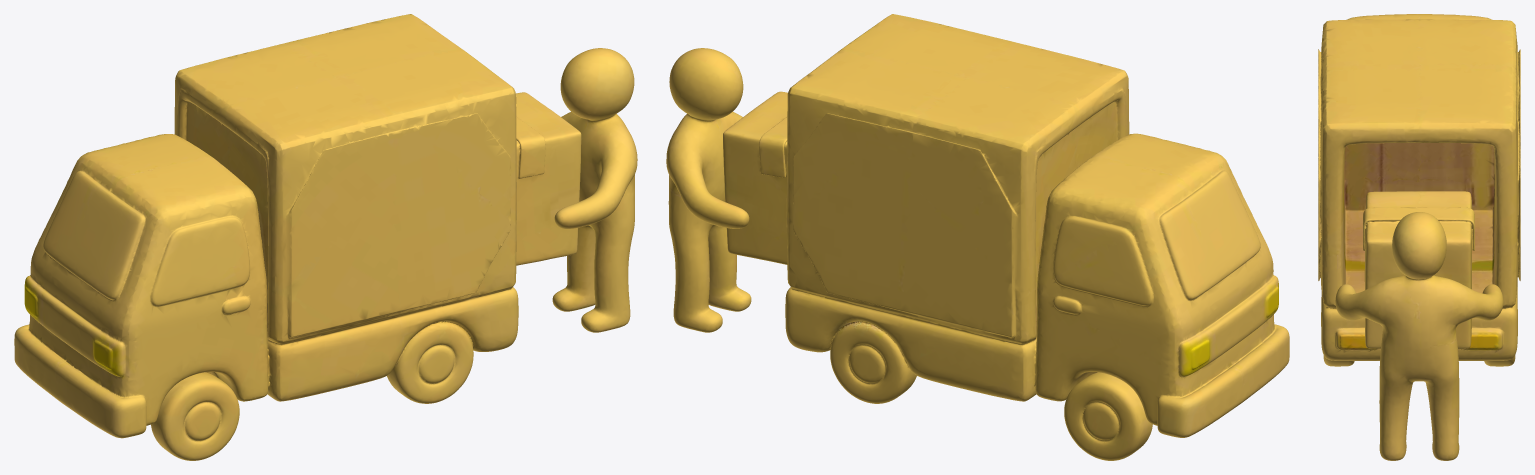
File: intro-deliver.glb
3 views of the same model, side by side, from view 1: azimuth 30°, elevation 25°; view 2: azimuth 150°, elevation 25°; view 3: azimuth 270°, elevation 25° (orthographic). The views are drawn at different scales.
Parts seen in each view (by area): view 1: Mesh_0.001; view 2: Mesh_0.001; view 3: Mesh_0.001.
Part boxes in pixels (left/top/right/bottom): Mesh_0.001: left=14, top=14, right=637, bottom=460; Mesh_0.001: left=666, top=14, right=1289, bottom=460; Mesh_0.001: left=1318, top=14, right=1520, bottom=460.
Size of the model in its own units: 0.2385 by 0.12 by 0.0798.
1 material, 1 textured.
